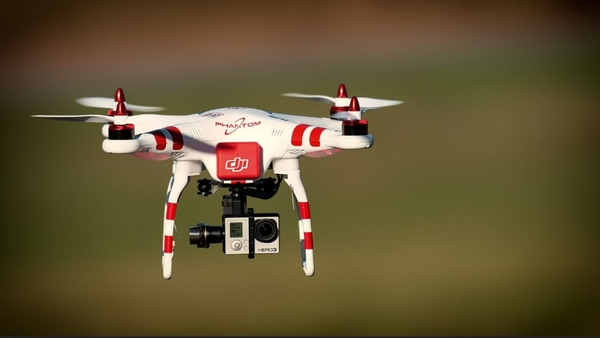drone: (29, 84, 405, 280)
